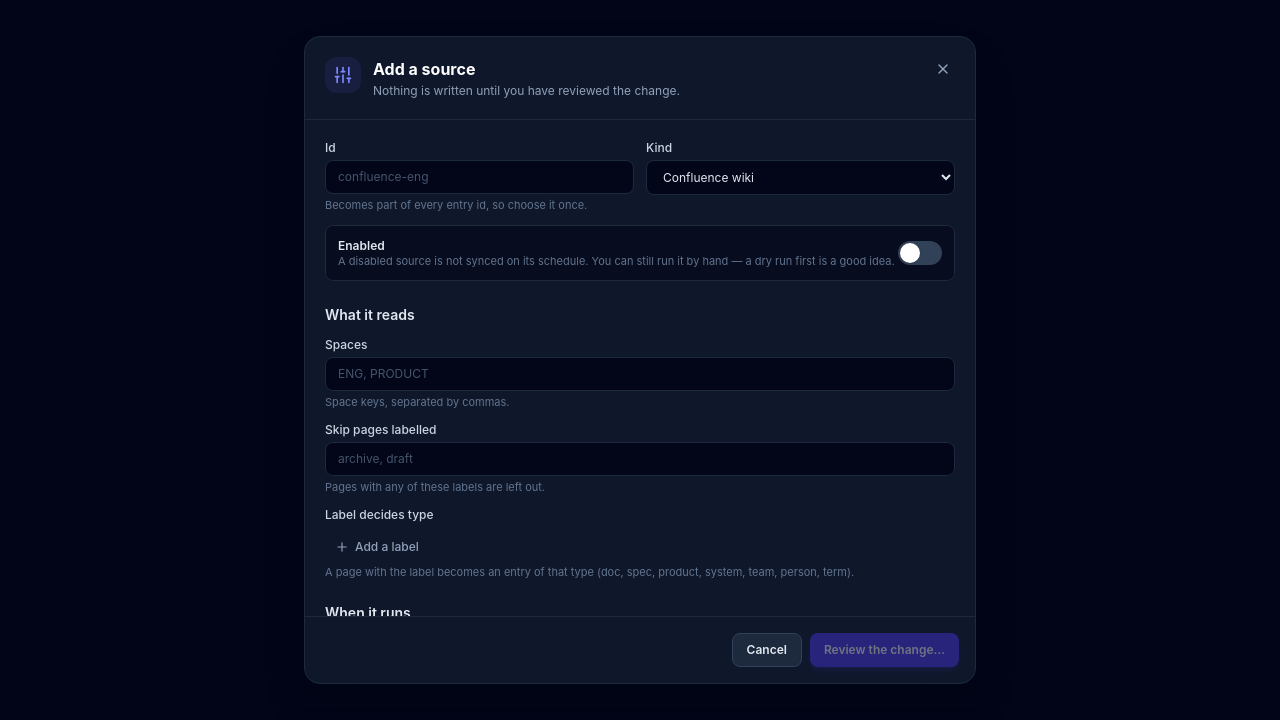
Scenario: SourceEditorModal › cannot be reviewed while something obvious is missing, and says what
Expected: the button "Review the change…" is disabled, [810, 633, 959, 667]
Type "form" into the field labelled "Id" at {"x": 480, "y": 177}, box [325, 160, 634, 194]
(page scrolled)
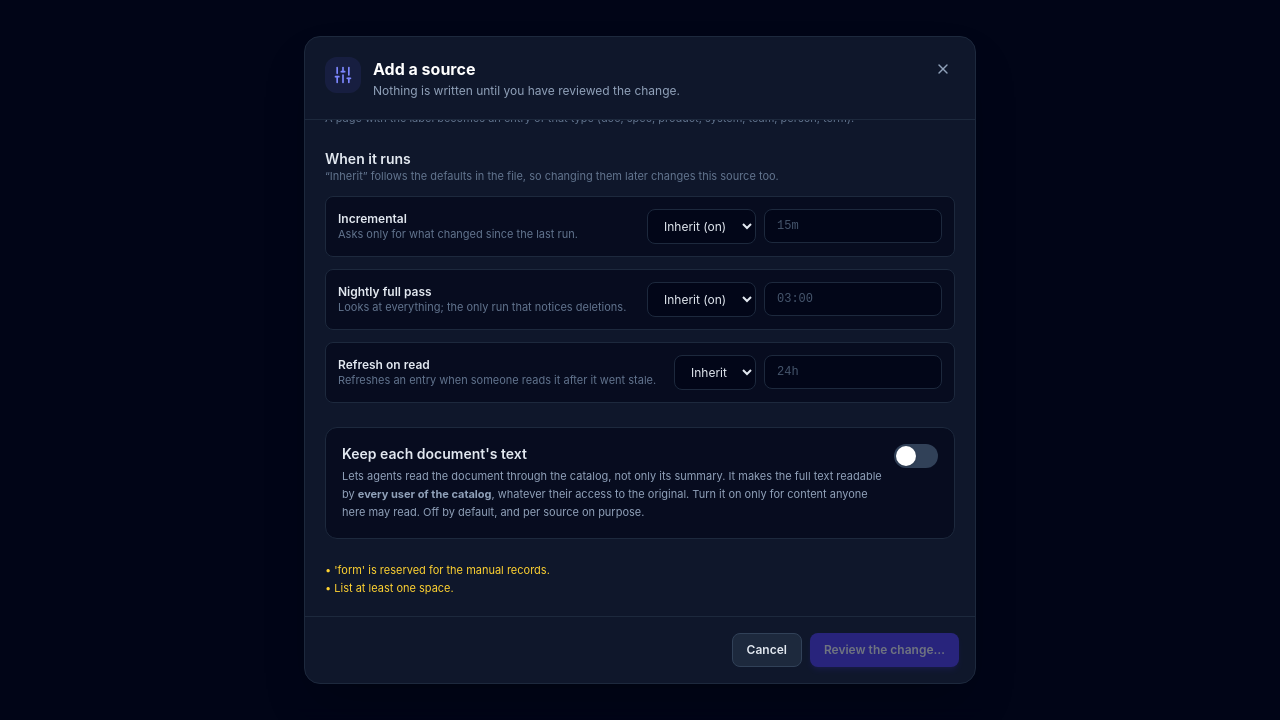
Result: the list item "• 'form' is reserved for the manual records." is shown at [325, 563, 550, 577]
